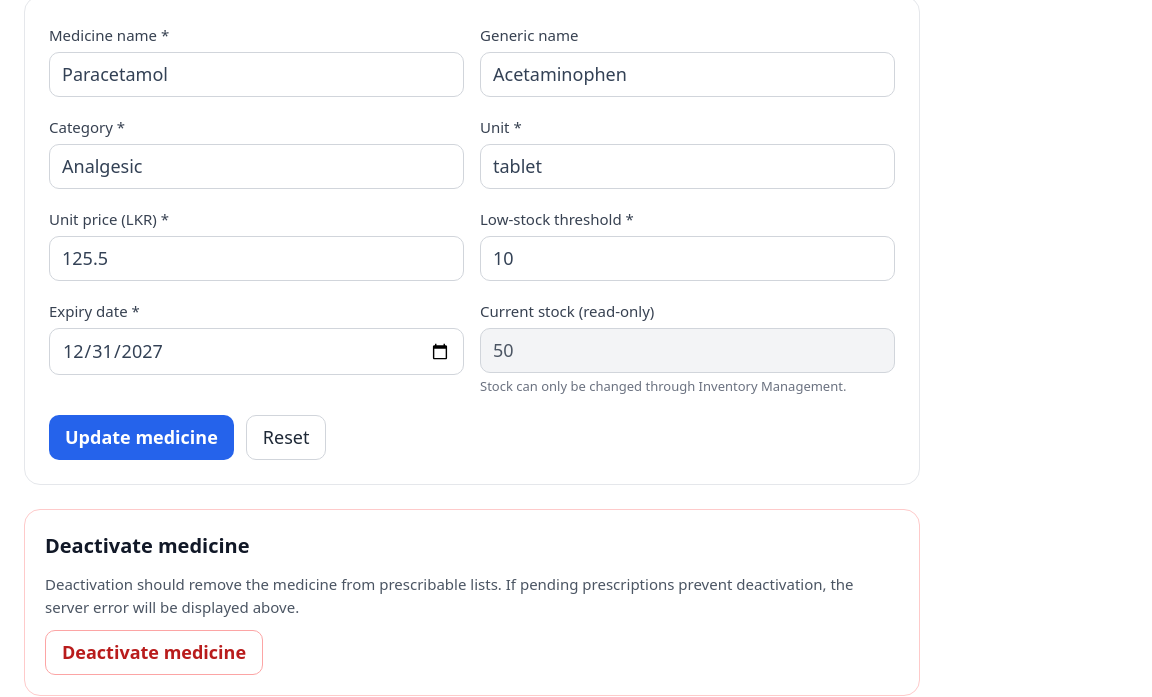
Test case: UpdateMedicinePage › shows a clear error when pending prescriptions prevent deactivation
(page scrolled)
Expected: the field labelled "Medicine name *" is shown, [49,52,464,97]
Click the button "Deactivate medicine": (154, 653) [45,630,263,676]
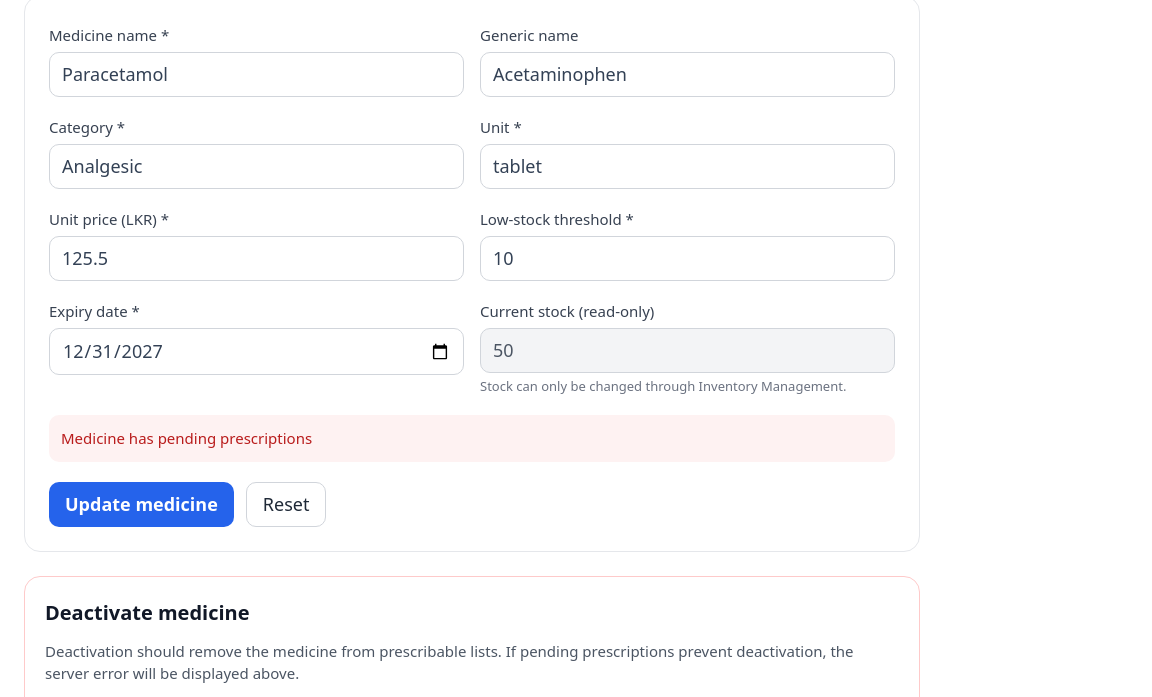
Expected: the message shows "pending prescriptions", [61,428,312,448]
